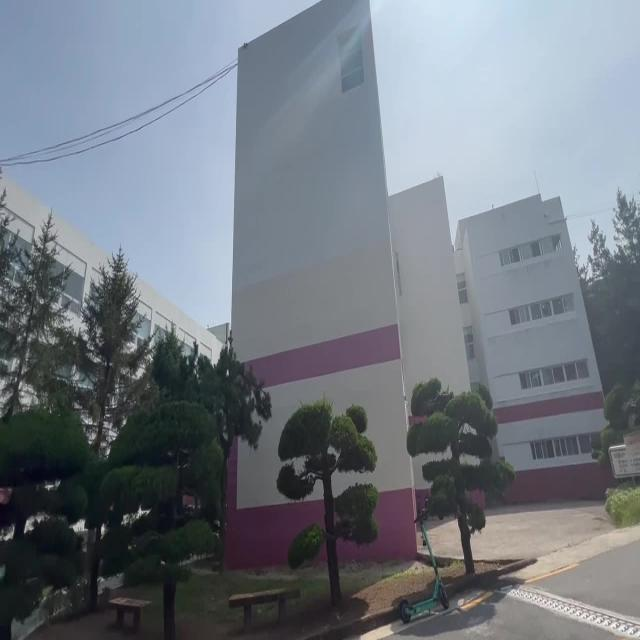building: (230, 0, 606, 546)
